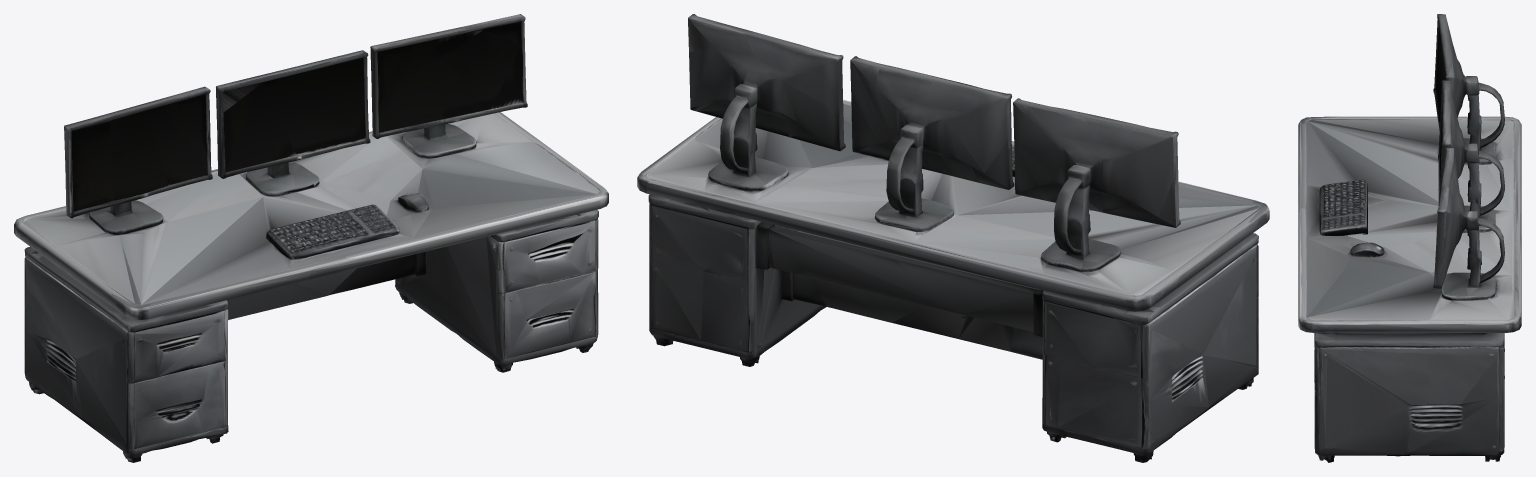
File: control_console_LOD1.fbx
3 renders of one model, left to right at view 1: azimuth 30°, elevation 25°; view 2: azimuth 150°, elevation 25°; view 3: azimuth 270°, elevation 25°, orthographic. The views are drawn at different scales.
Parts seen in each view (by area): view 1: control_console.001; view 2: control_console.001; view 3: control_console.001.
Part boxes in pixels (<box>): control_console.001: <box>14,14,608,462</box>; control_console.001: <box>637,14,1269,462</box>; control_console.001: <box>1298,14,1521,462</box>.
Size of the model in its own units: 2.2 by 1.25 by 1.
Materials: 1 (1 with a texture image).
